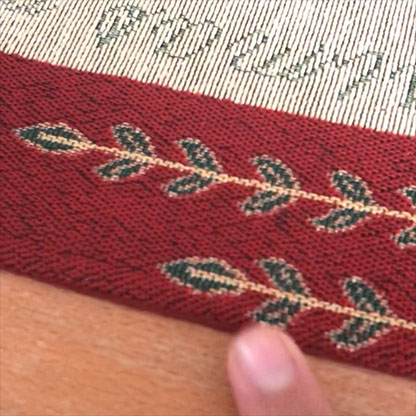fingertip: (214, 317, 321, 404)
